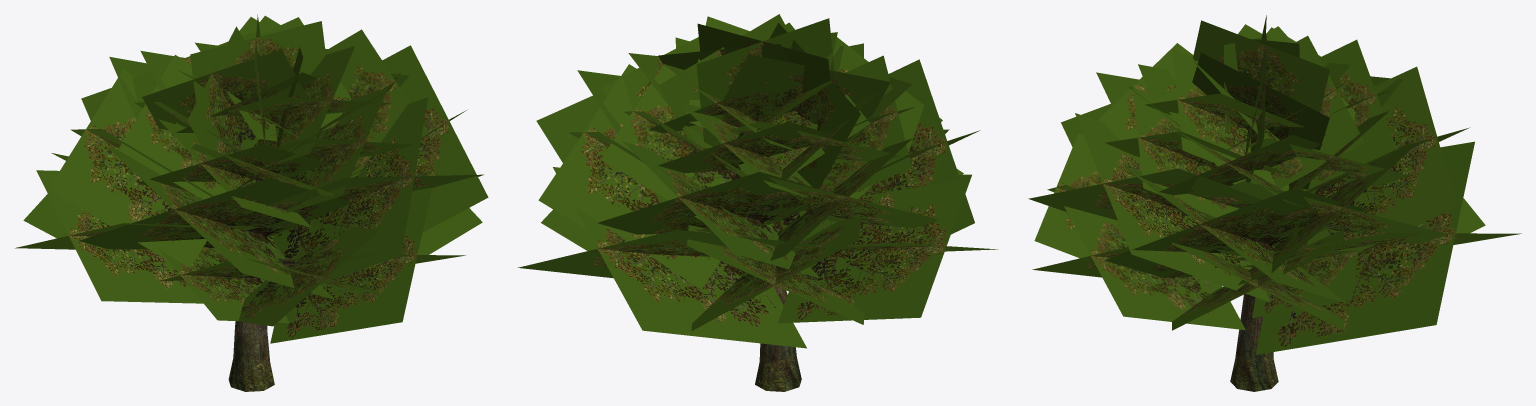
The model's file is tre_pine09.glb.
The picture shows the model from 3 angles, left to right: view 1: azimuth 30°, elevation 25°; view 2: azimuth 150°, elevation 25°; view 3: azimuth 270°, elevation 25°; orthographic projection.
Parts seen in each view (by area): view 1: tre_pine09; view 2: tre_pine09; view 3: tre_pine09.
Part boxes in pixels (x1=…): tre_pine09: x1=15, y1=14, x2=488, y2=391; tre_pine09: x1=517, y1=14, x2=997, y2=391; tre_pine09: x1=1028, y1=15, x2=1521, y2=391.
Size of the model in its own units: 72.59 by 57.49 by 73.6.
Materials: 3 (3 with a texture image).
